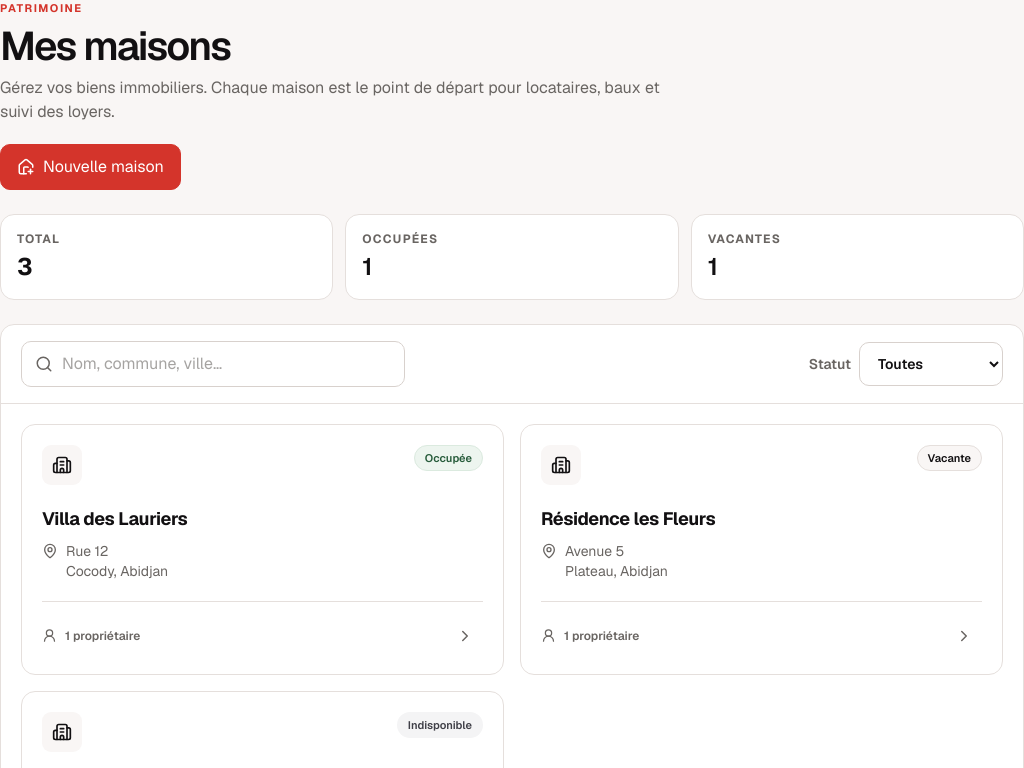
Scenario: HouseWorkspace › opens creation form on button click
Expected: the heading "Villa des Lauriers" is shown, [42,507,187,530]
Click the button "Nouvelle maison".
click(90, 167)  # box [0,144,181,190]
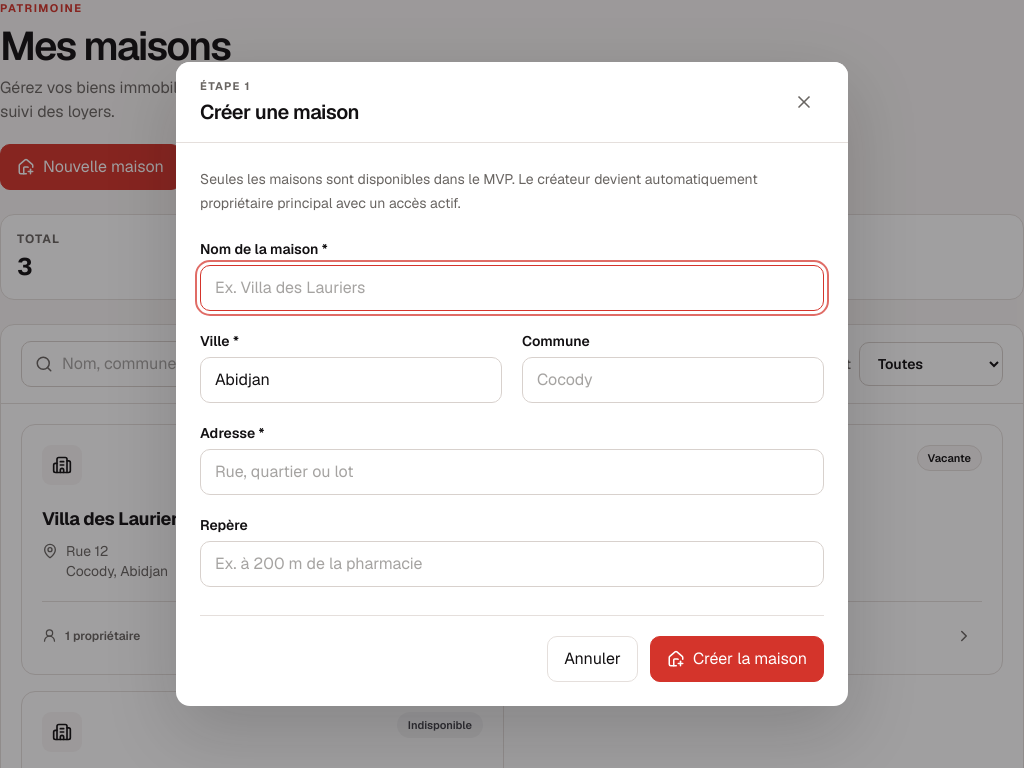
Now the heading "Créer une maison" is shown, box [200,98,359,126]
